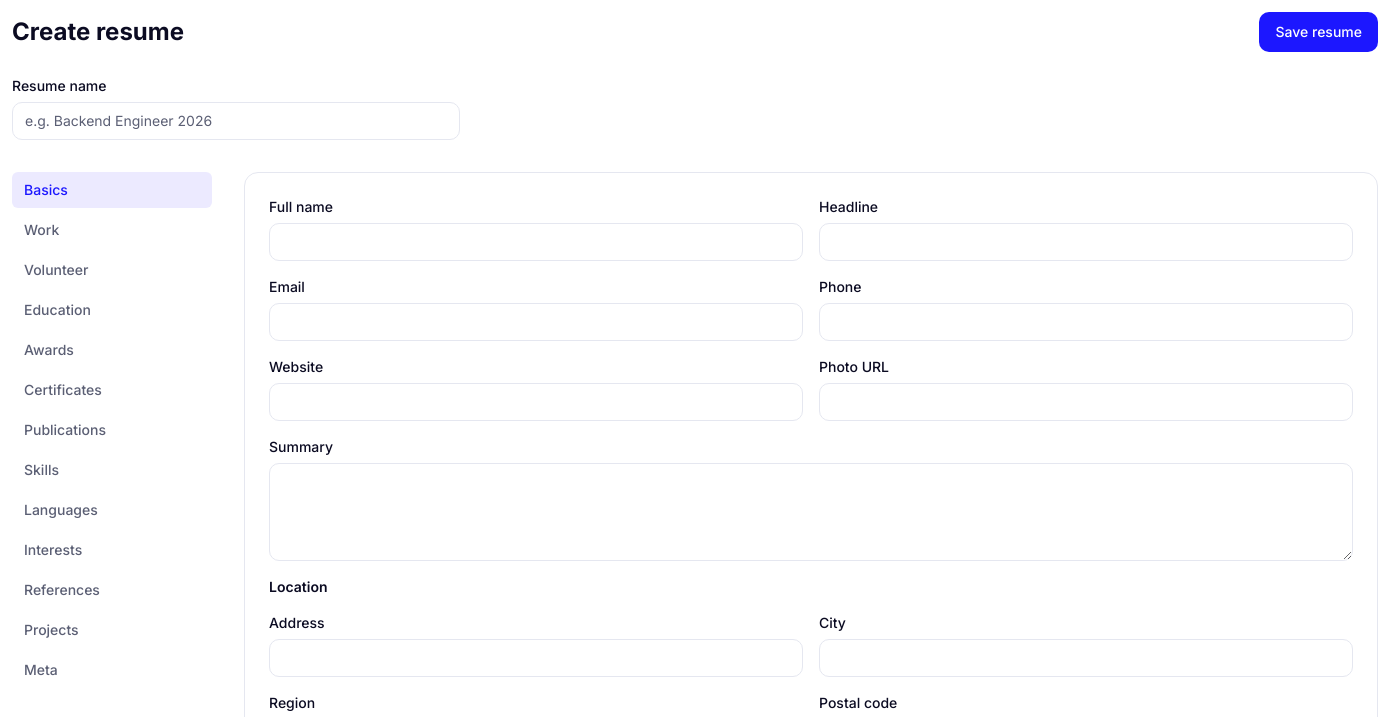
ResumeEditorPage › blocks saving without a resume name
The width and height of the screenshot is (1390, 717).
In the field labelled "Full name": coordinates (536, 242) [269,223,803,261], type "Ada"
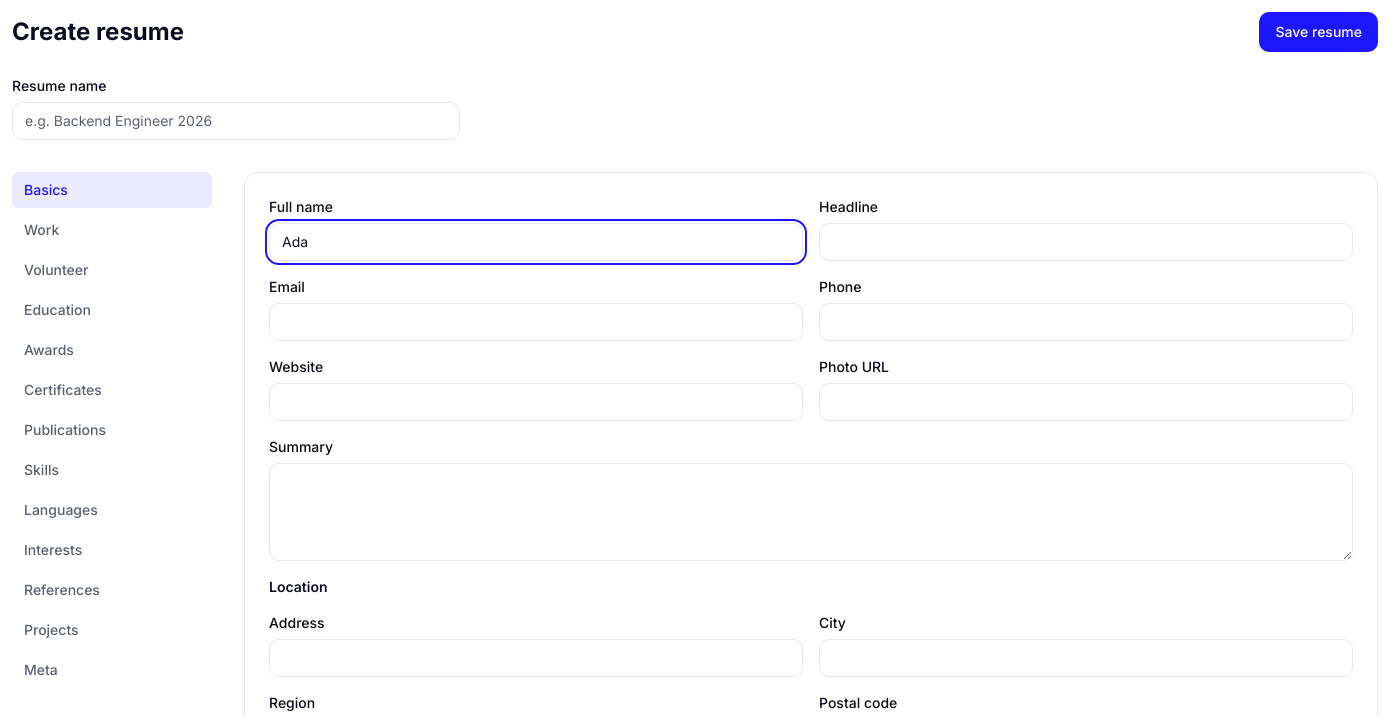
Click the button "Save resume": coordinates (1319, 32) [1260,12,1378,52]
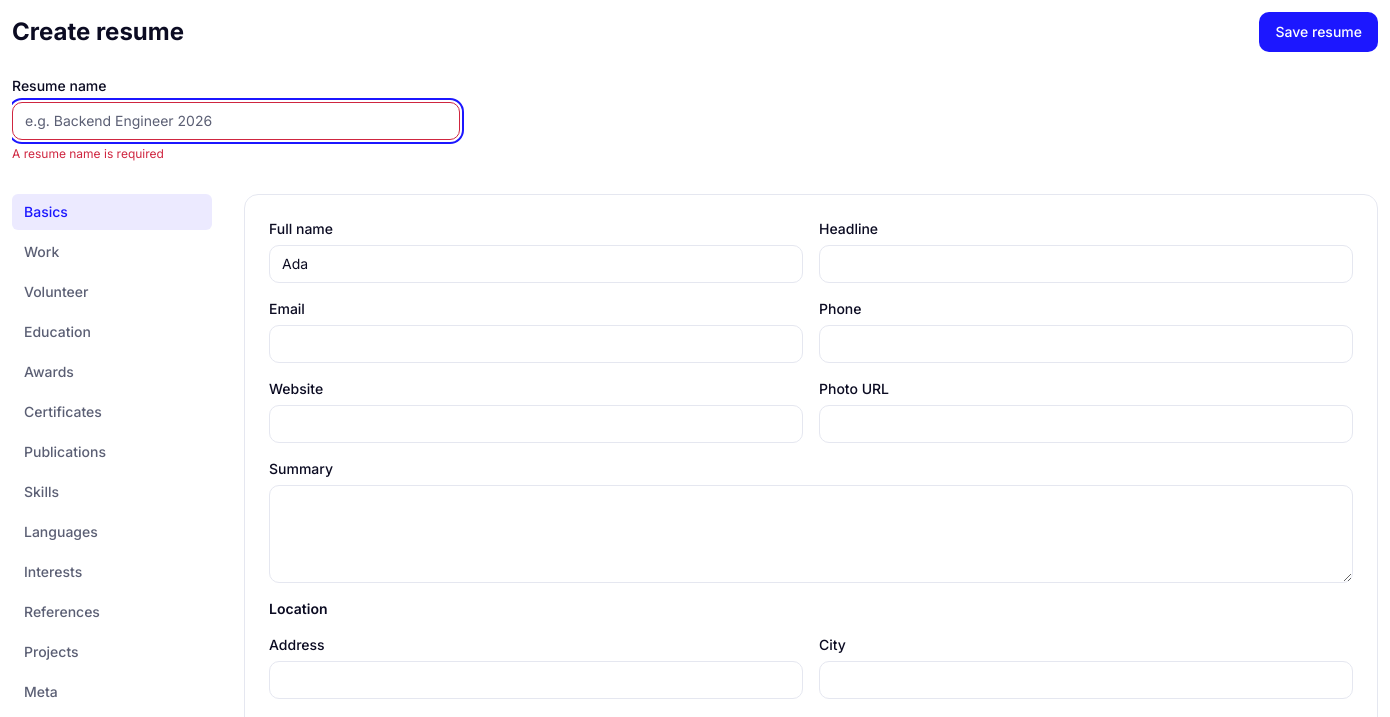
expect the text "A resume name is required" is shown: met, box [12,146,164,161]
